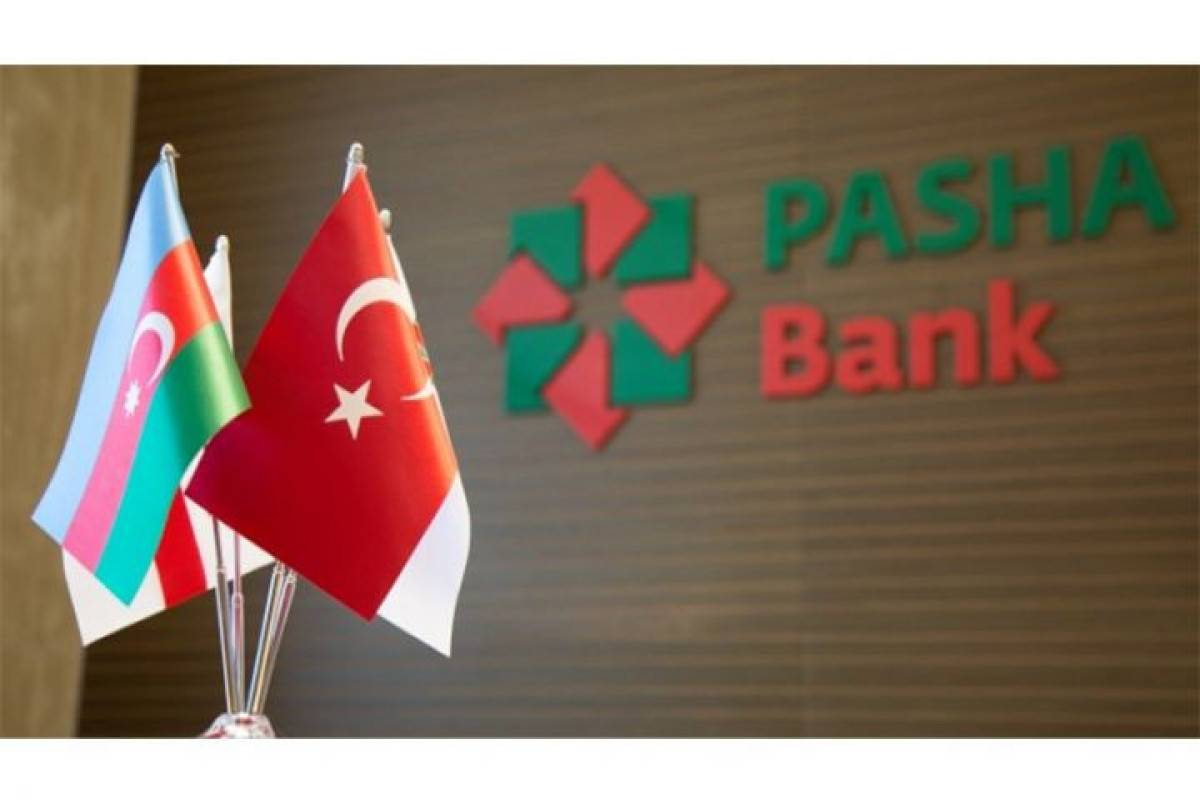Pasha Bank: (469, 156, 733, 455)
